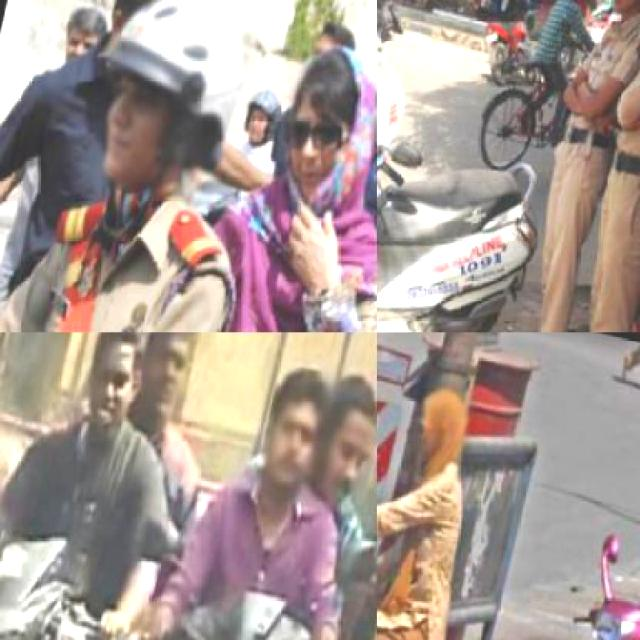With Helmet: (85, 0, 263, 211)
Without Helmet: (271, 30, 375, 218), (255, 352, 338, 498), (306, 348, 376, 508), (401, 369, 482, 486), (76, 332, 162, 437), (131, 332, 211, 432)
